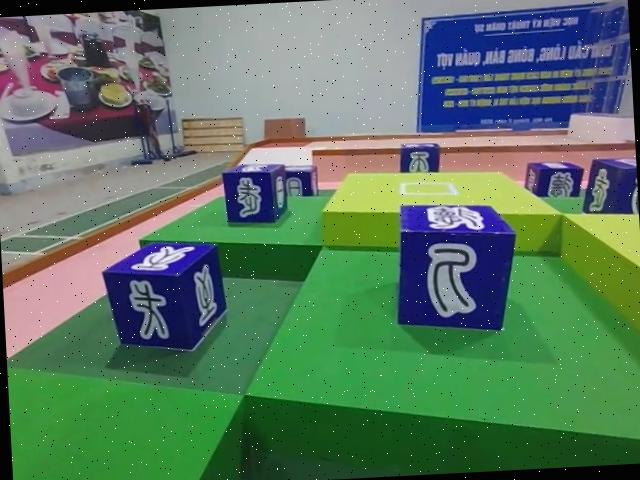R2 Fake Blue: (384, 197, 521, 332), (101, 232, 228, 358), (219, 161, 290, 228), (577, 153, 639, 218), (523, 156, 584, 202), (398, 139, 444, 172), (282, 163, 319, 198)
